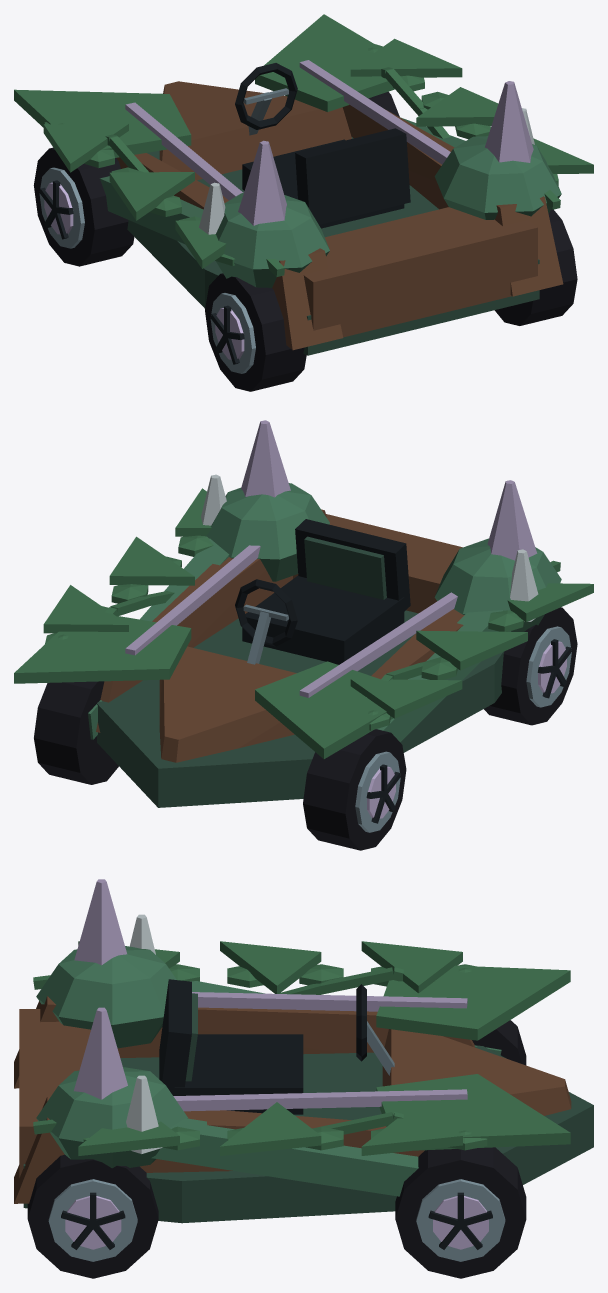
File: kart.glb
The picture shows the model from 3 angles, top to bottom: view 1: azimuth 30°, elevation 25°; view 2: azimuth 150°, elevation 25°; view 3: azimuth 270°, elevation 25°; orthographic projection. The views are drawn at different scales.
Visible parts, largest first — view 1: identity-nature-nature-root-cradle-and-leaf-bow, identity-nature-motif-leaves, identity-nature-driver-cockpit, wheel-rear-left, wheel-front-left, identity-nature-motif-crystals, identity-nature-motif-vines, wheel-rear-right; view 2: identity-nature-nature-root-cradle-and-leaf-bow, identity-nature-driver-cockpit, identity-nature-motif-leaves, wheel-front-left, wheel-rear-left, identity-nature-motif-crystals, wheel-front-right, identity-nature-motif-vines; view 3: identity-nature-nature-root-cradle-and-leaf-bow, identity-nature-motif-leaves, wheel-front-right, wheel-rear-right, identity-nature-driver-cockpit, identity-nature-motif-crystals, identity-nature-motif-vines, wheel-front-left.
Boxes of the visible parts, x1,y1,x2,y2 form: identity-nature-nature-root-cradle-and-leaf-bow: [14, 14, 563, 355]; identity-nature-motif-leaves: [43, 38, 593, 268]; identity-nature-driver-cockpit: [235, 63, 410, 228]; wheel-rear-left: [205, 273, 306, 391]; wheel-front-left: [33, 147, 134, 266]; identity-nature-motif-crystals: [199, 81, 534, 234]; identity-nature-motif-vines: [44, 44, 560, 276]; wheel-rear-right: [494, 209, 577, 325]; identity-nature-nature-root-cradle-and-leaf-bow: [14, 483, 561, 807]; identity-nature-driver-cockpit: [235, 519, 410, 664]; identity-nature-motif-leaves: [43, 488, 593, 718]; wheel-front-left: [303, 729, 406, 850]; wheel-rear-left: [484, 607, 577, 725]; identity-nature-motif-crystals: [201, 420, 538, 621]; wheel-front-right: [34, 681, 118, 784]; identity-nature-motif-vines: [45, 535, 560, 730]; identity-nature-nature-root-cradle-and-leaf-bow: [14, 946, 593, 1223]; identity-nature-motif-leaves: [78, 941, 462, 1155]; wheel-front-right: [395, 1147, 526, 1278]; wheel-rear-right: [27, 1154, 158, 1278]; identity-nature-driver-cockpit: [159, 979, 394, 1114]; identity-nature-motif-crystals: [74, 879, 162, 1153]; identity-nature-motif-vines: [33, 964, 487, 1150]; wheel-front-left: [472, 1020, 526, 1065].
Size of the model in its own units: 2.3 by 1.32 by 2.75.
